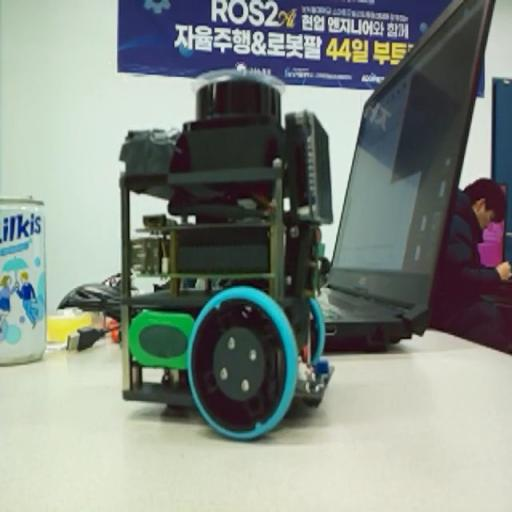pinky_63: (114, 70, 339, 439)
